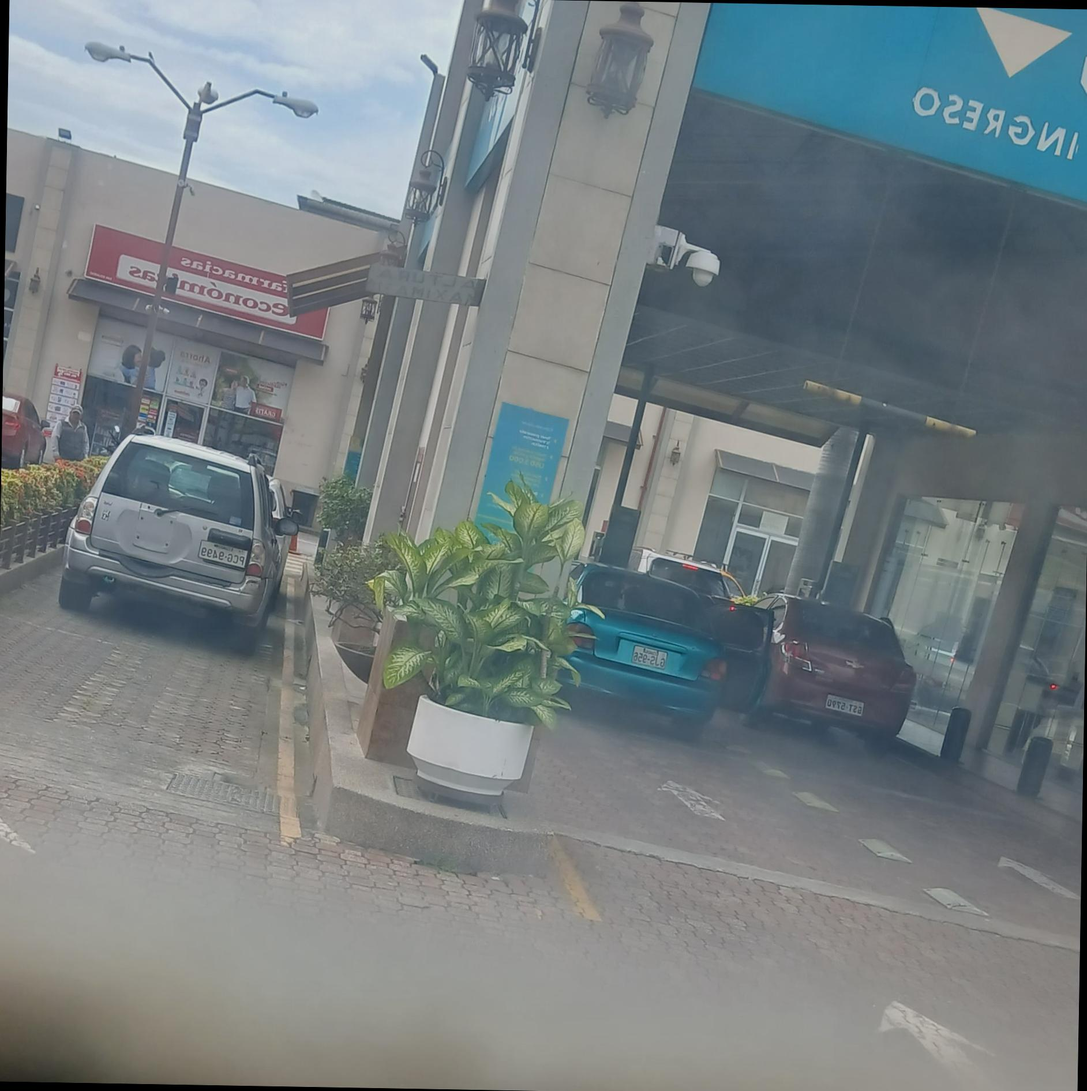license_plate: (197, 540, 249, 568), (631, 644, 670, 671), (825, 695, 866, 717)
